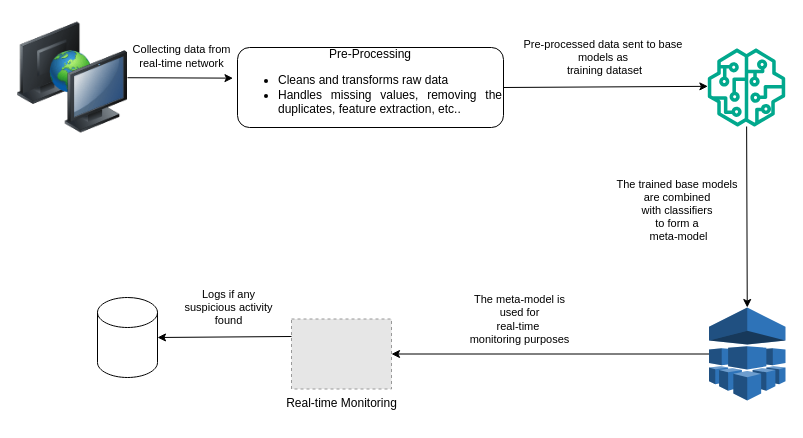
Some shapes in this 803 by 438 pixel diagram are drawn without their labels. Grey dashed boxes stand in for pictures. Here are the shapes that lost their labels. From the top down, the centre of each, then its label:
[746,87]: Base Models
[747,353]: Meta-Model
